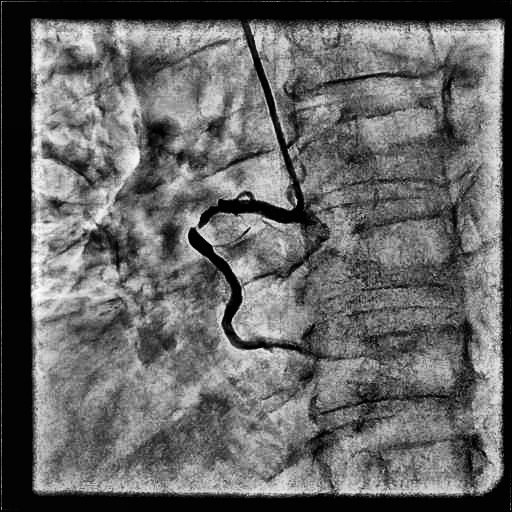pda: (304, 351, 376, 361)
rca: (188, 199, 306, 354)
